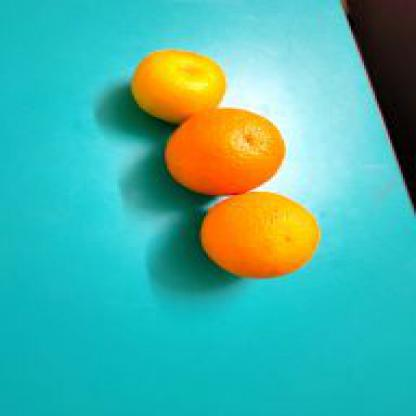orange: (197, 187, 321, 283), (160, 109, 286, 198), (127, 47, 228, 122)
